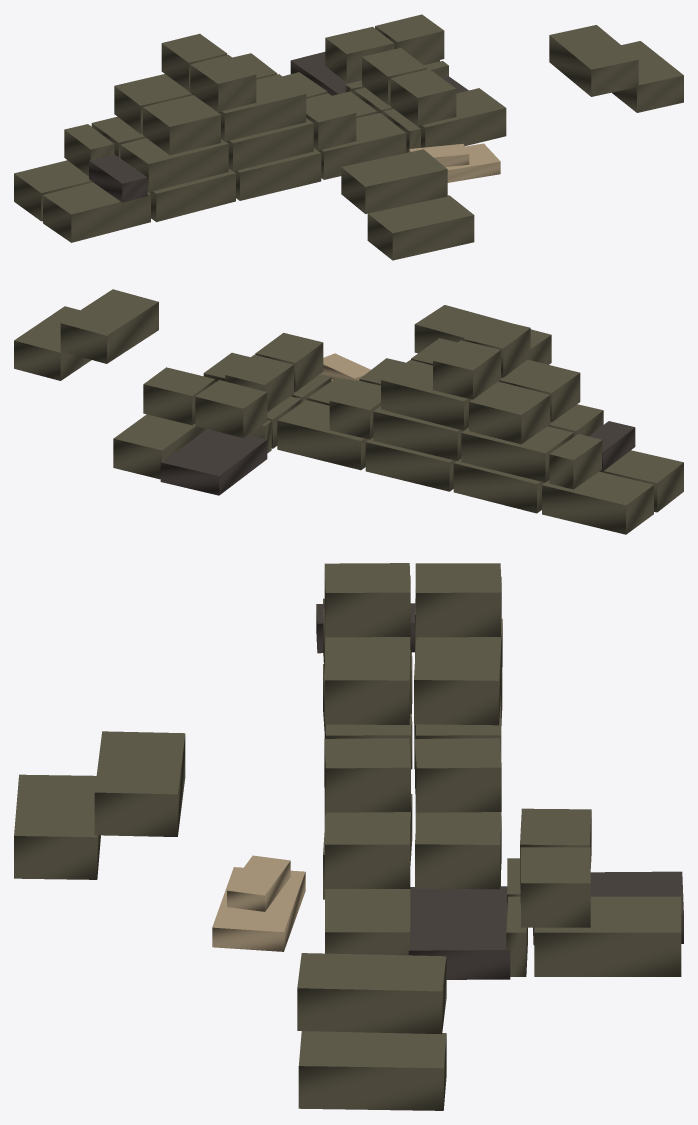
Rendered from SM_SacosRemateEspejo_v1_Talud_e1_Danado_LOD0.fbx.
The picture shows the model from 3 angles, top to bottom: view 1: azimuth 30°, elevation 25°; view 2: azimuth 150°, elevation 25°; view 3: azimuth 270°, elevation 25°; orthographic projection. The views are drawn at different scales.
Visible parts, largest first — view 1: SM_sacos_piezas_v25_LOD0; view 2: SM_sacos_piezas_v25_LOD0; view 3: SM_sacos_piezas_v25_LOD0.
Boxes of the visible parts, x1=… form: SM_sacos_piezas_v25_LOD0: x1=14, y1=14, x2=683, y2=260; SM_sacos_piezas_v25_LOD0: x1=14, y1=289, x2=683, y2=534; SM_sacos_piezas_v25_LOD0: x1=14, y1=563, x2=683, y2=1110.
Bounding box in the file's own units: 6.09 × 1.18 × 3.7.
